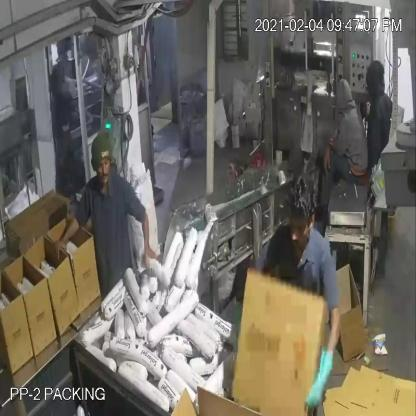glove: (302, 309, 342, 412)
no_glove: (135, 200, 161, 279), (54, 206, 88, 265)
